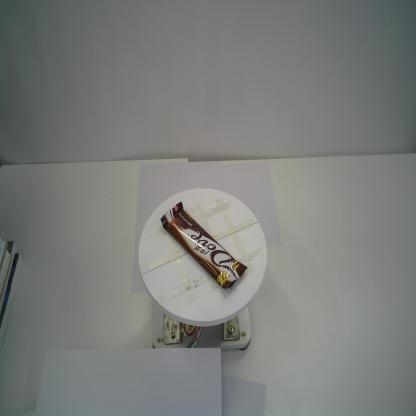Chocolate: (160, 201, 248, 290)
